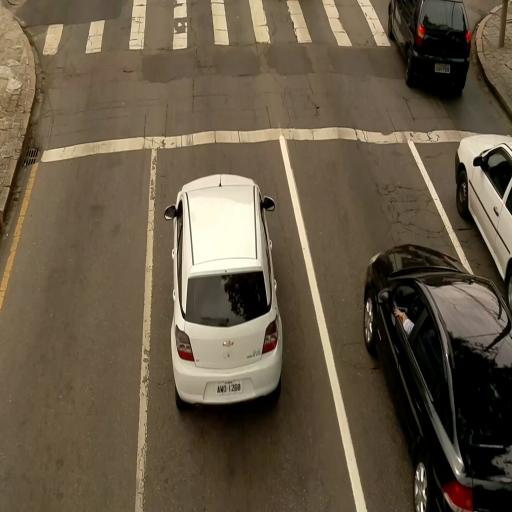car: (362, 248, 512, 508), (163, 169, 287, 415), (454, 134, 511, 320), (383, 0, 480, 102)
